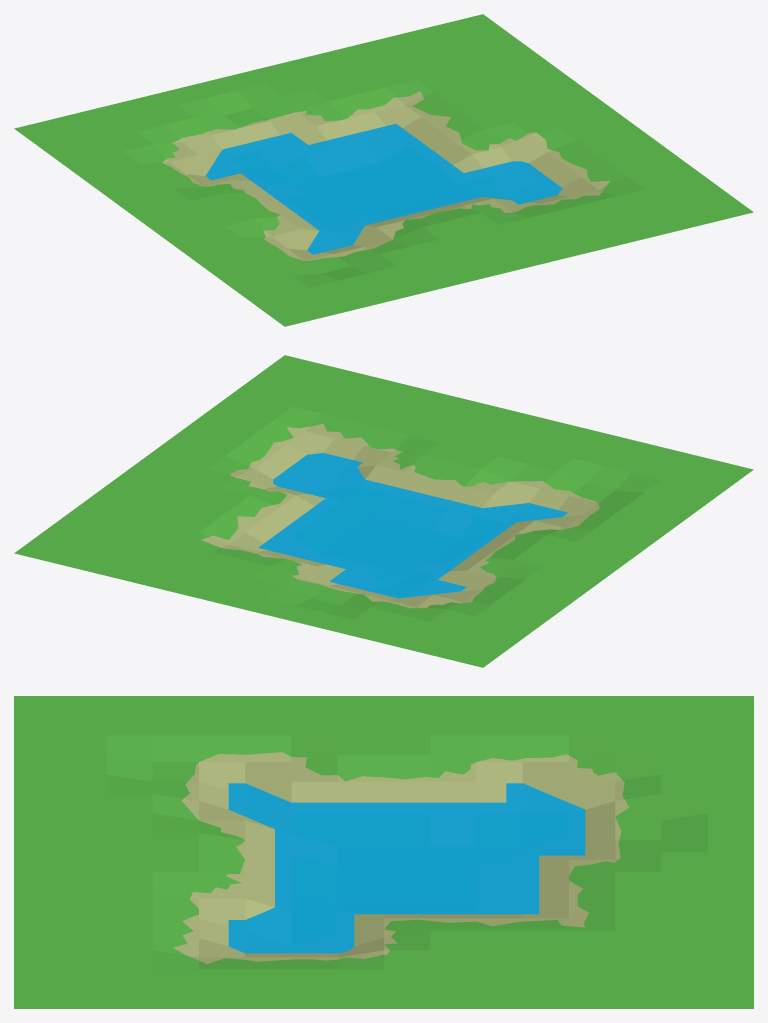
The model's file is jarvi.fbx.
The picture shows the model from 3 angles, top to bottom: view 1: azimuth 30°, elevation 25°; view 2: azimuth 150°, elevation 25°; view 3: azimuth 270°, elevation 25°; orthographic projection. The views are drawn at different scales.
Visible parts, largest first — view 1: Plane, Plane.001; view 2: Plane, Plane.001; view 3: Plane, Plane.001.
Boxes of the visible parts, bbox=[...] form: Plane: bbox=[14, 14, 753, 326]; Plane.001: bbox=[206, 124, 562, 254]; Plane: bbox=[14, 355, 753, 667]; Plane.001: bbox=[258, 453, 567, 598]; Plane: bbox=[14, 696, 753, 1008]; Plane.001: bbox=[228, 783, 585, 953].
Bounding box in the file's own units: 2589 × 2589 × 130.
